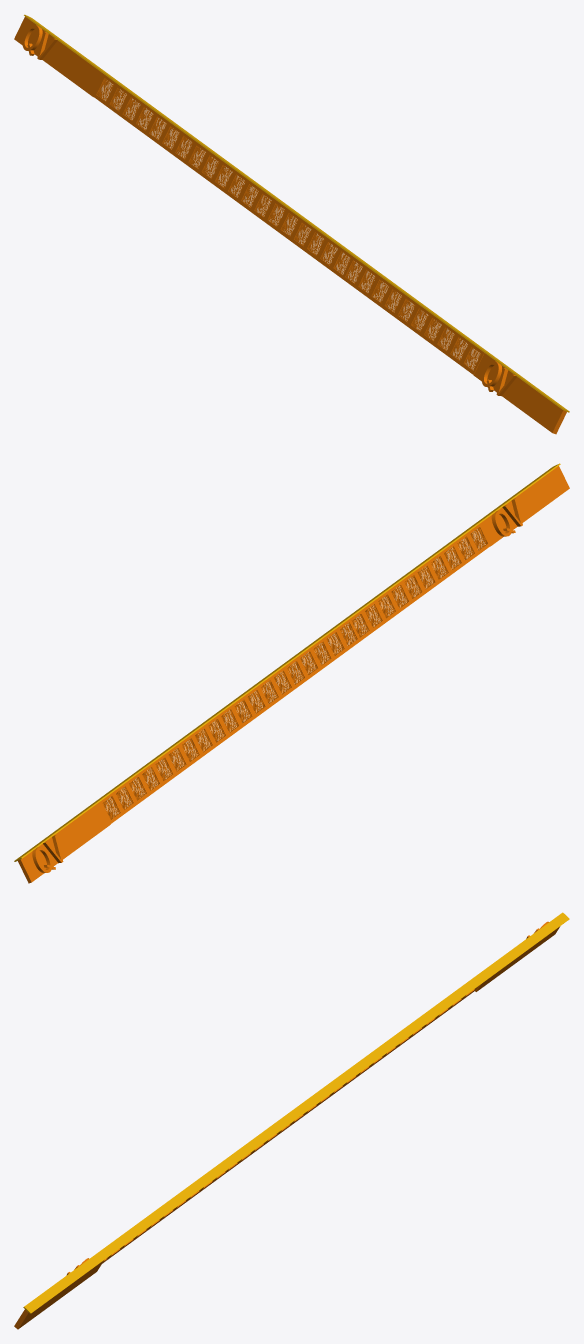
The model's file is qv railing 1.fbx.
The picture shows the model from 3 angles, top to bottom: view 1: azimuth 30°, elevation 25°; view 2: azimuth 150°, elevation 25°; view 3: azimuth 330°, elevation 25°; orthographic projection.
Parts seen in each view (by area): view 1: qv_railing:qvrailing, pCube1, typeMesh1, typeMesh2; view 2: qv_railing:qvrailing, pCube1, typeMesh1, typeMesh2; view 3: pCube1, qv_railing:qvrailing.
Part boxes in pixels (box(x1,y1,x2,y2)): qv_railing:qvrailing: box(14, 16, 566, 434); pCube1: box(24, 14, 569, 412); typeMesh1: box(482, 361, 516, 395); typeMesh2: box(22, 25, 57, 59); qv_railing:qvrailing: box(18, 466, 569, 883); pCube1: box(14, 463, 560, 861); typeMesh1: box(491, 498, 522, 536); typeMesh2: box(32, 835, 63, 873); pCube1: box(23, 912, 569, 1313); qv_railing:qvrailing: box(14, 926, 560, 1329).
Bounding box in the file's own units: 91.79 × 98.91 × 3906.
